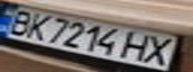1: (78, 21, 103, 54)
2: (60, 19, 87, 51)
4: (96, 25, 124, 56)
7: (39, 15, 72, 46)
B: (0, 8, 39, 36)
H: (118, 29, 160, 62)
K: (18, 10, 57, 40)
X: (136, 34, 184, 66)
